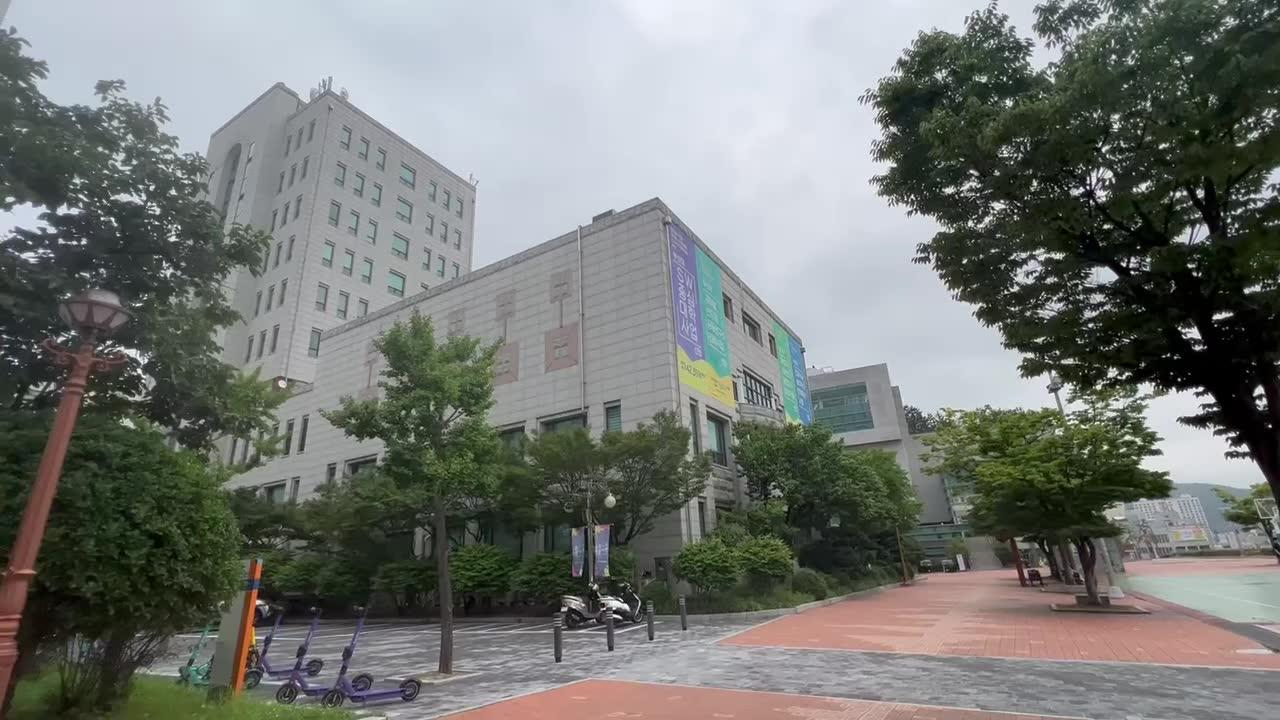building: (190, 53, 844, 441)
